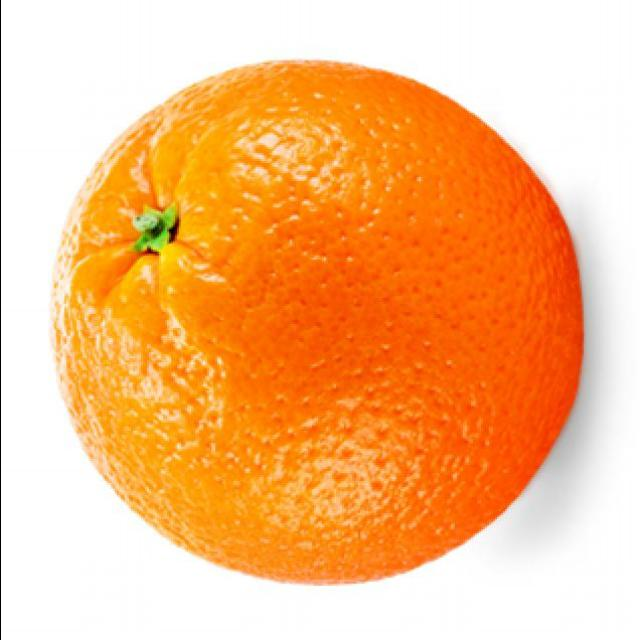orange: (53, 48, 591, 600)
